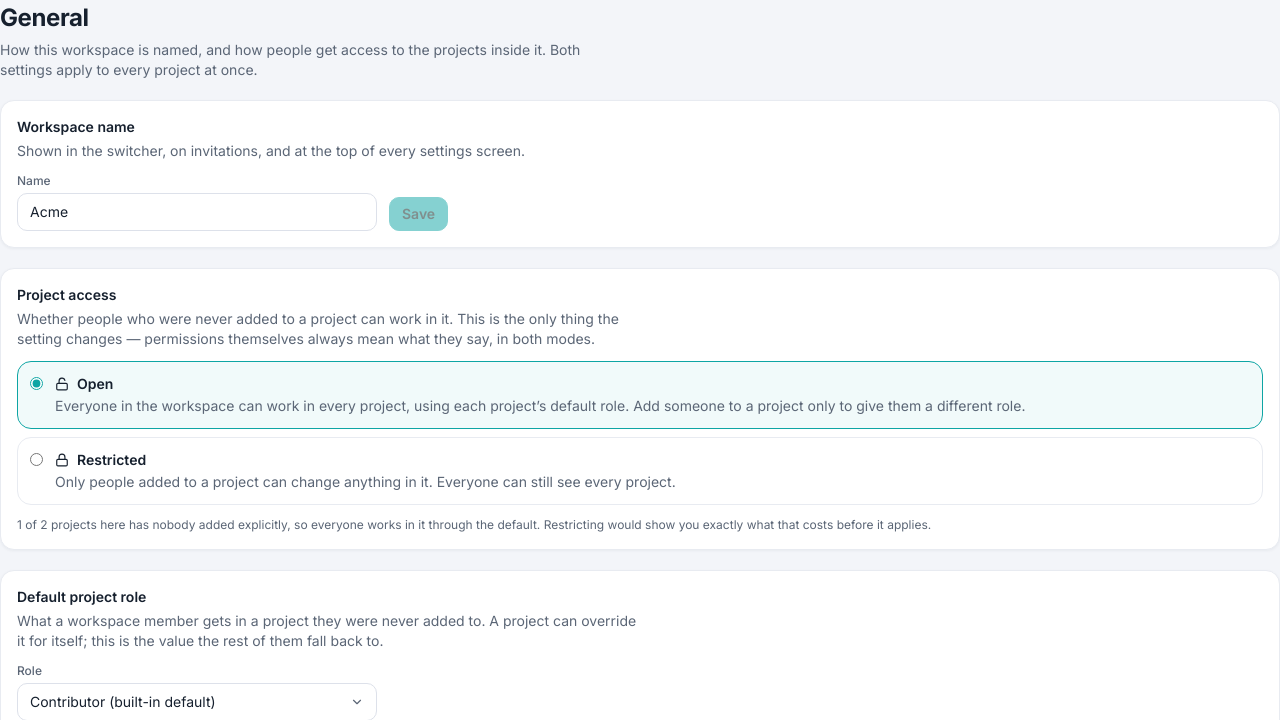
Test case: WorkspaceGeneralPage — the impact preview › refuses to offer the confirm at all when the preview names stranded projects
The image size is (1280, 720).
Click the radio button labelled "Restricted" at point(36, 460), box left=30, top=453, right=43, bottom=466
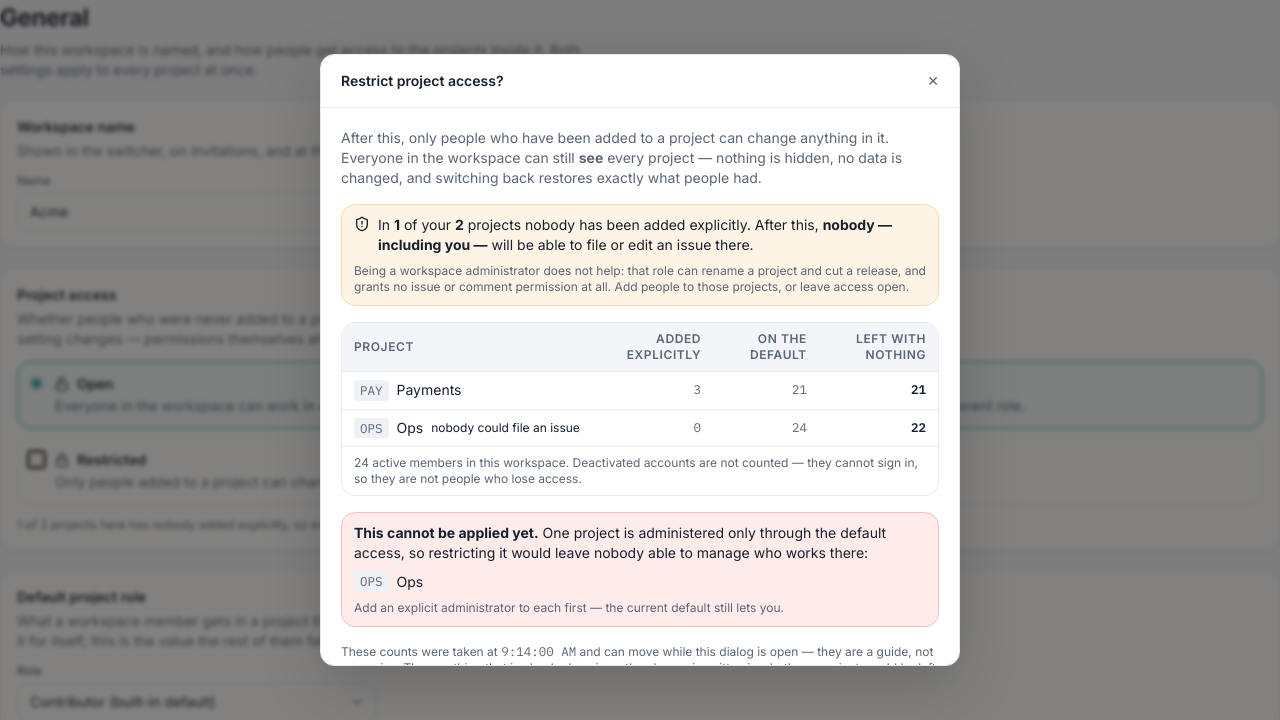
Now the text "This cannot be applied yet." is shown, box left=354, top=524, right=539, bottom=541
Now the text "Add an explicit administrator to each first" is shown, box left=354, top=600, right=784, bottom=615
